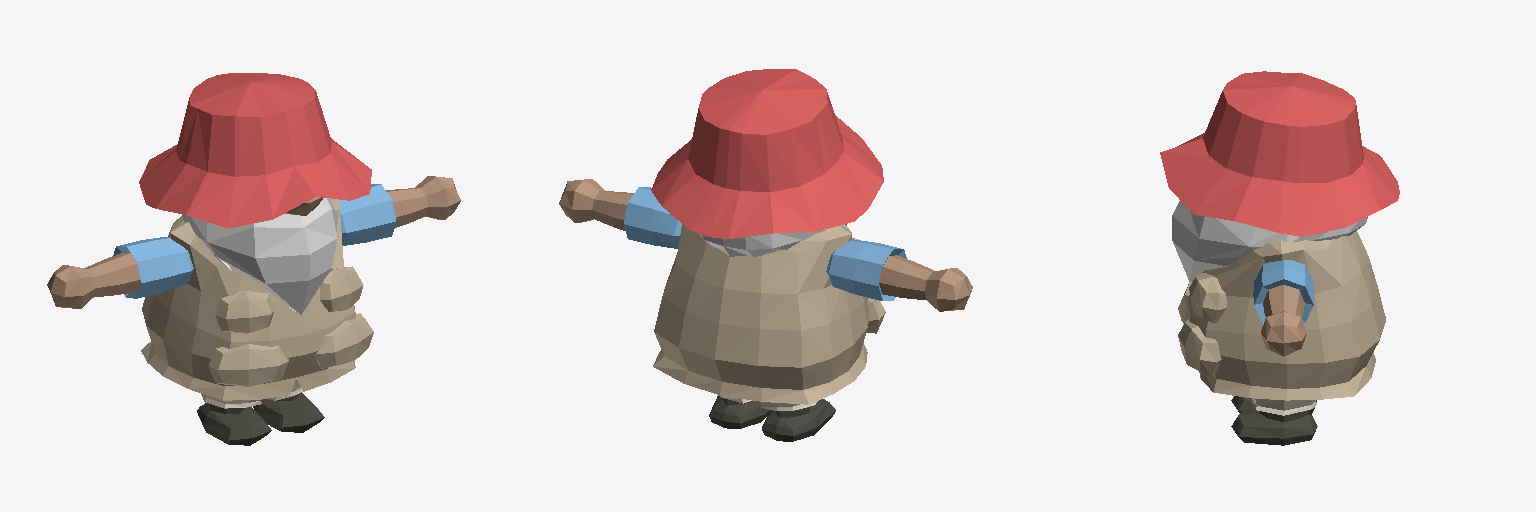
3 views of the same model, side by side, from view 1: azimuth 30°, elevation 25°; view 2: azimuth 150°, elevation 25°; view 3: azimuth 270°, elevation 25° (orthographic).
Visible parts, largest first — view 1: gnome:Gnome; view 2: gnome:Gnome; view 3: gnome:Gnome.
Part boxes in pixels (x1,y1,x2,y2): gnome:Gnome: (47,73,460,445); gnome:Gnome: (559,69,972,441); gnome:Gnome: (1160,71,1399,445).
Size of the model in its own units: 247 by 197 by 126.
Materials: 1 (1 with a texture image).